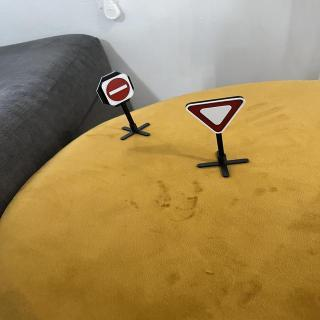sign_noentry: (102, 73, 137, 108)
sign_yield: (185, 97, 248, 136)
